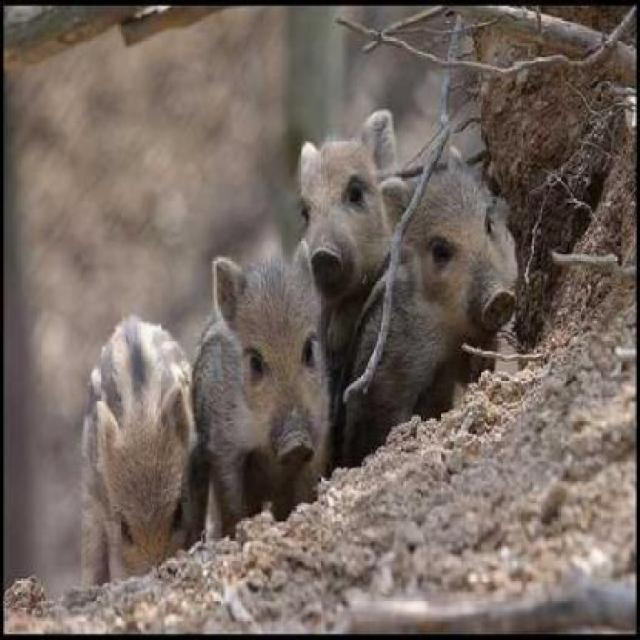pig: (169, 237, 423, 534), (77, 234, 234, 537), (381, 141, 587, 364), (301, 64, 444, 320)
